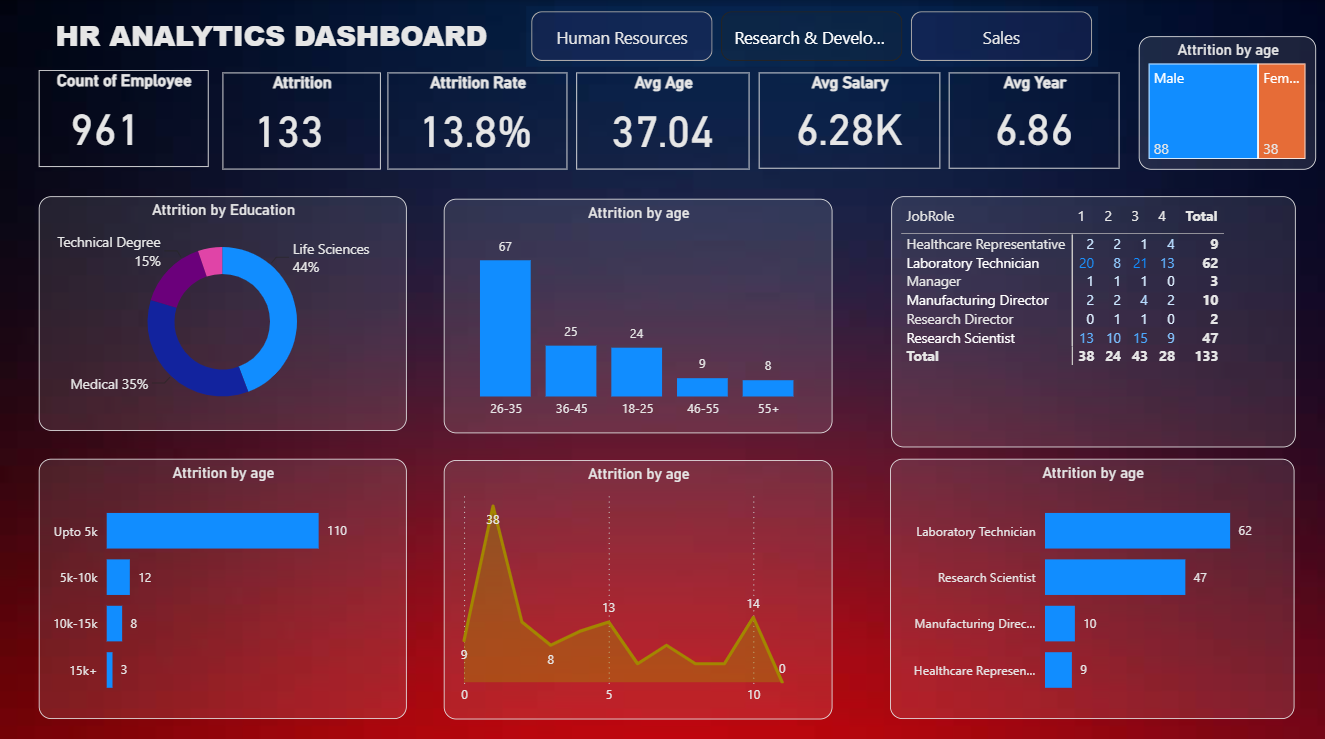

The page's visual inventory and layout, read from the dashboard file:
{"tool":"powerbi","page":{"name":"Page 1","canvas":[1280,720],"ordinal":0},"visuals":[{"type":"cardVisual","title":"Count of Employee","fields":{"Data":["CountNonNull(HR_Analytics.EmpID)"]},"box":[37.5,67.5,163.8,93.8],"z":0},{"type":"cardVisual","title":"Attrition","fields":{"Data":["Sum(HR_Analytics.AttritionCount)"]},"box":[215,70,152.5,93.8],"z":1000},{"type":"cardVisual","title":"Attrition Rate","fields":{"Data":["HR_Analytics.AttritionRate"]},"box":[373.8,70,173.8,93.8],"z":2000},{"type":"cardVisual","title":"Avg Age","fields":{"Data":["Avg(HR_Analytics.Age)"]},"box":[556.2,70,167.5,93.8],"z":3000},{"type":"cardVisual","title":"Avg Salary","fields":{"Data":["Avg(HR_Analytics.MonthlyIncome)"]},"box":[732.5,70,175,92.5],"z":4000},{"type":"cardVisual","title":"Avg Year","fields":{"Data":["Avg(HR_Analytics.YearsAtCompany)"]},"box":[916.2,70,165,92.5],"z":5000},{"type":"donutChart","title":"Attrition by Education","fields":{"Category":["HR_Analytics.EducationField"],"Y":["Sum(HR_Analytics.AttritionCount)"]},"box":[37.5,190,355,226.2],"z":6000},{"type":"columnChart","title":"Attrition by age","fields":{"Category":["HR_Analytics.AgeGroup"],"Y":["Sum(HR_Analytics.AttritionCount)"]},"box":[428.8,191.2,375,226.2],"z":7000},{"type":"pivotTable","fields":{"Rows":["HR_Analytics.JobRole"],"Columns":["HR_Analytics.JobSatisfaction"],"Values":["Sum(HR_Analytics.AttritionCount)"]},"box":[860,190,390,242.5],"z":8000},{"type":"barChart","title":"Attrition by age","fields":{"Category":["HR_Analytics.SalarySlab"],"Y":["Sum(HR_Analytics.AttritionCount)"]},"box":[37.1,443.3,354.9,250.9],"z":9000},{"type":"barChart","title":"Attrition by age","fields":{"Y":["Sum(HR_Analytics.AttritionCount)"],"Category":["HR_Analytics.JobRole"]},"box":[859.5,443.3,390.6,250.9],"z":10000},{"type":"areaChart","title":"Attrition by age","fields":{"Category":["HR_Analytics.YearsAtCompany"],"Y":["Sum(HR_Analytics.AttritionCount)"]},"box":[428.8,443.8,375,250],"z":11000},{"type":"treemap","title":"Attrition by age","fields":{"Group":["HR_Analytics.Gender"],"Values":["Sum(HR_Analytics.AttritionCount)"]},"box":[1098.8,35,171.2,128.8],"z":12000},{"type":"advancedSlicerVisual","fields":{"Values":["HR_Analytics.Department"]},"box":[507.4,5.7,551.6,58.4],"z":13000},{"type":"textbox","box":[37.5,10,448.8,48.8],"z":14000}]}

Visuals, with their boxes in screenshot pixels (x1, y1, x2, y2), scaled from the page's 1280x720 canvas onto the 1325x739 screenshot:
"Count of Employee" cardVisual: <region>39, 69, 208, 166</region>
"Attrition" cardVisual: <region>223, 72, 380, 168</region>
"Attrition Rate" cardVisual: <region>387, 72, 567, 168</region>
"Avg Age" cardVisual: <region>576, 72, 749, 168</region>
"Avg Salary" cardVisual: <region>758, 72, 939, 167</region>
"Avg Year" cardVisual: <region>948, 72, 1119, 167</region>
"Attrition by Education" donutChart: <region>39, 195, 406, 427</region>
"Attrition by age" columnChart: <region>444, 196, 832, 428</region>
pivotTable - HR_Analytics.JobRole x HR_Analytics.JobSatisfaction: <region>890, 195, 1294, 444</region>
"Attrition by age" barChart: <region>38, 455, 406, 713</region>
"Attrition by age" barChart: <region>890, 455, 1294, 713</region>
"Attrition by age" areaChart: <region>444, 456, 832, 712</region>
"Attrition by age" treemap: <region>1137, 36, 1315, 168</region>
advancedSlicerVisual - HR_Analytics.Department: <region>525, 6, 1096, 66</region>
textbox: <region>39, 10, 503, 60</region>
